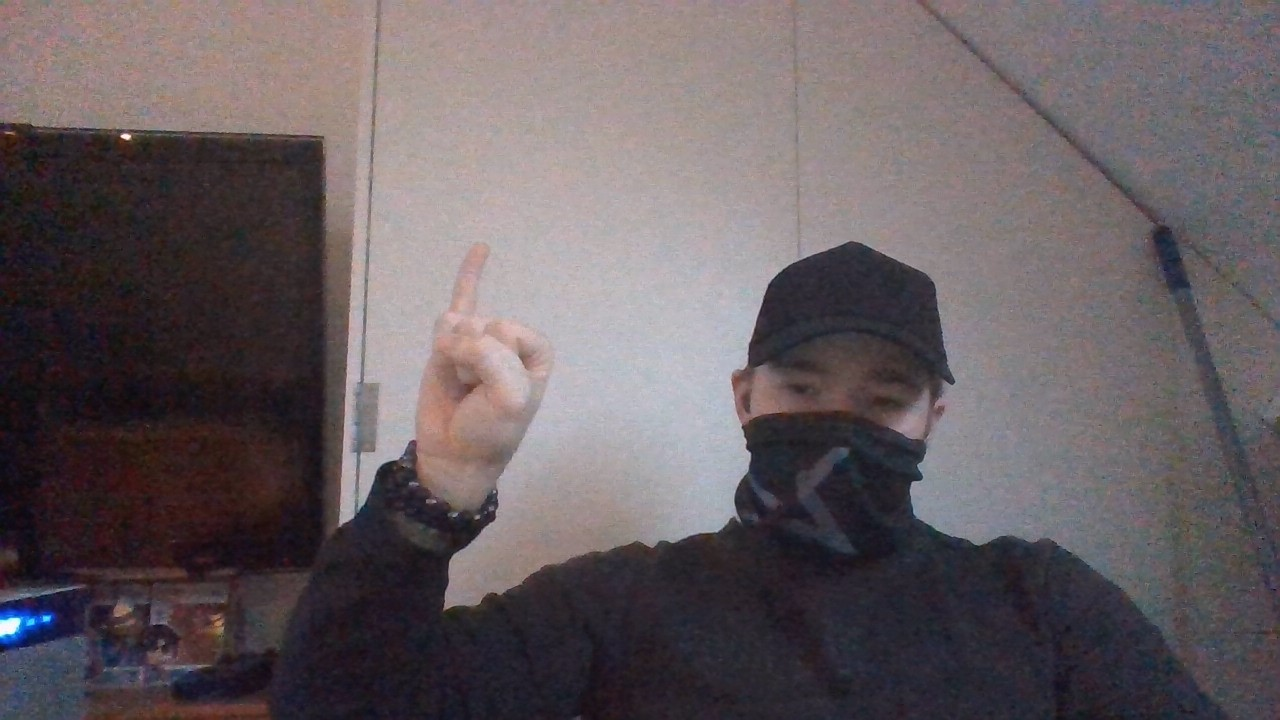I" Sign language: (412, 237, 560, 470)
